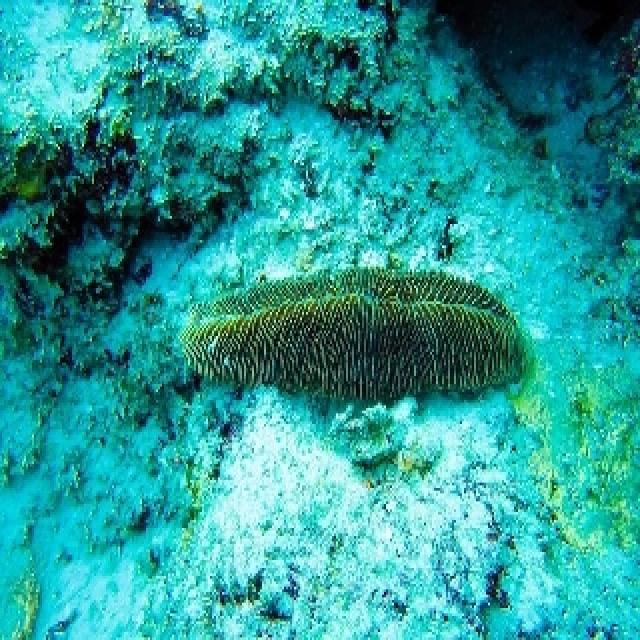reefs: (175, 265, 535, 406)
